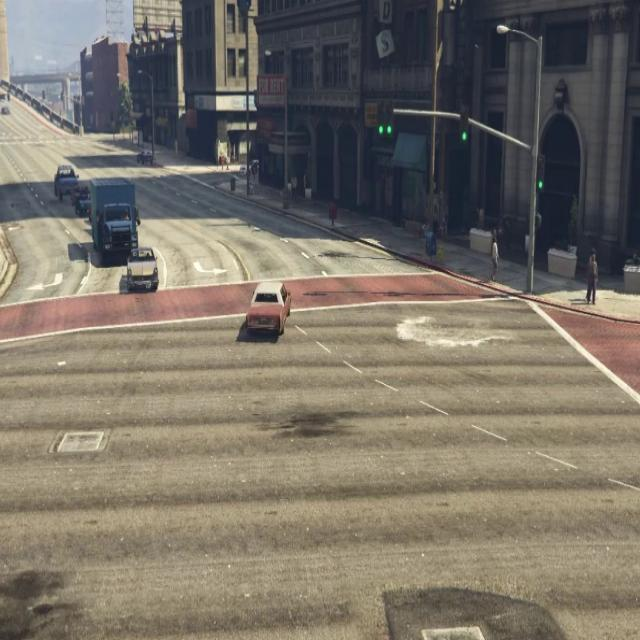Green-Signal: (372, 87, 401, 163), (529, 145, 554, 211), (456, 96, 476, 162)
